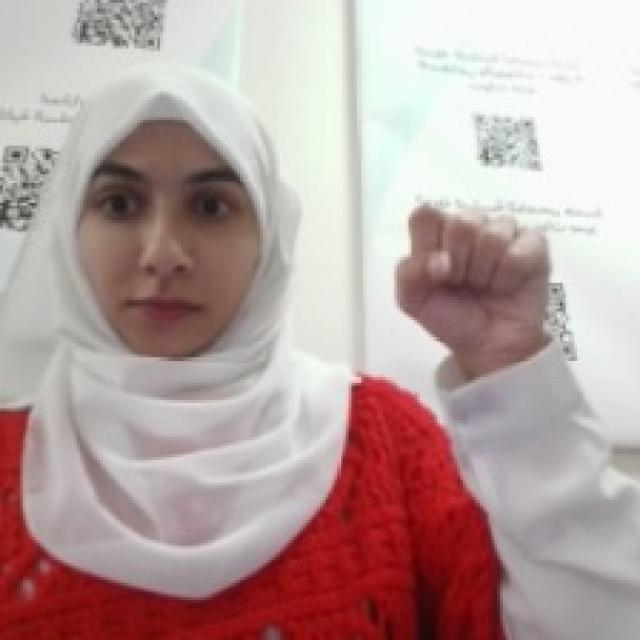yes: (389, 192, 554, 352)
